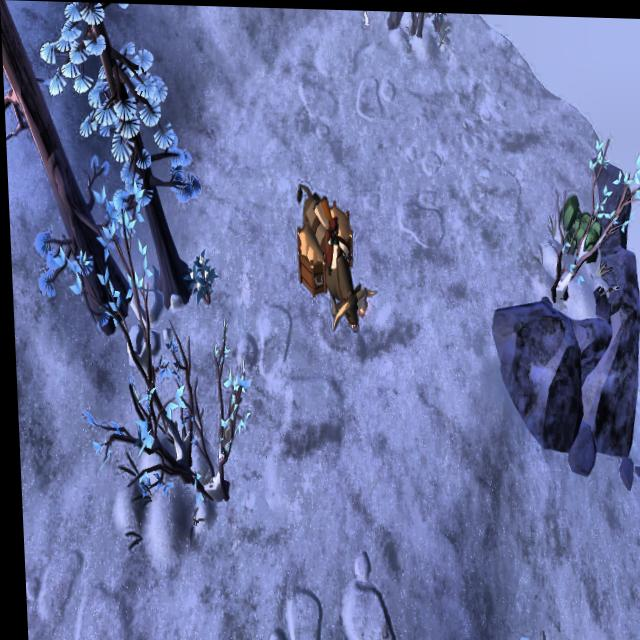fiber_t4: (182, 246, 213, 308)
rock_t3: (552, 188, 601, 256)
